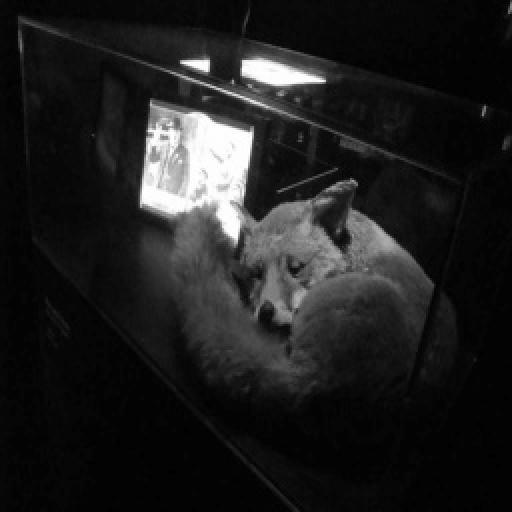zorro: (170, 178, 456, 444)
